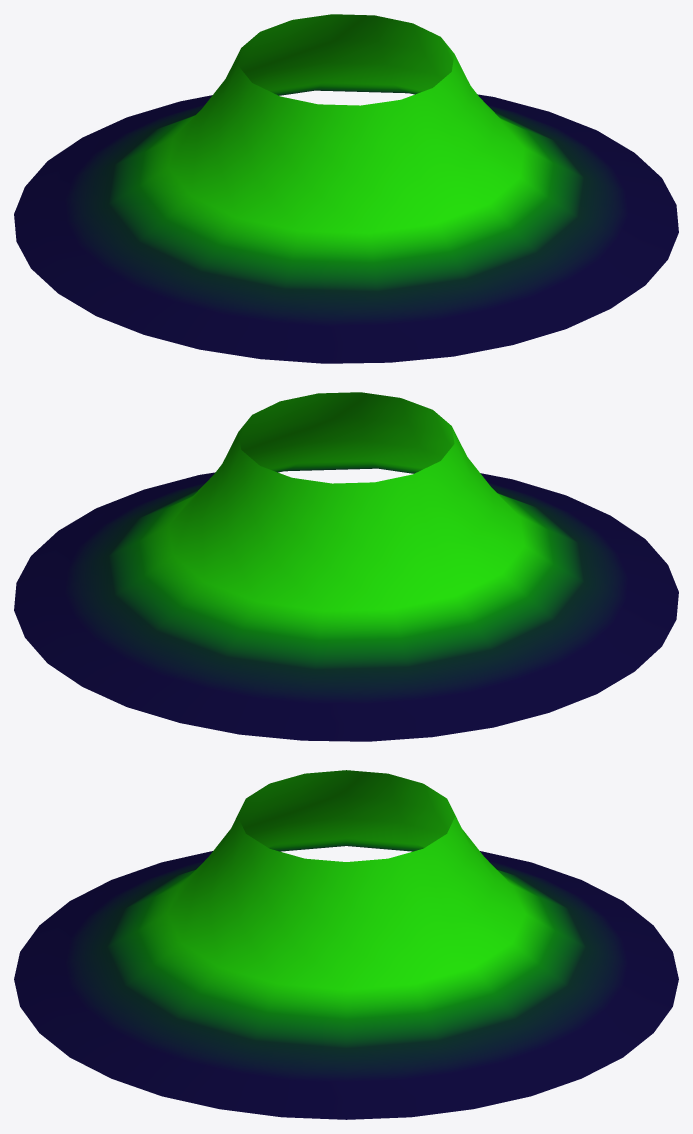
The model's file is SM_VFXTest_Cape_Acid.fbx.
The picture shows the model from 3 angles, top to bottom: view 1: azimuth 30°, elevation 25°; view 2: azimuth 150°, elevation 25°; view 3: azimuth 270°, elevation 25°; orthographic projection.
Visible parts, largest first — view 1: SM_VFXTest_Cape_Acid; view 2: SM_VFXTest_Cape_Acid; view 3: SM_VFXTest_Cape_Acid.
Boxes of the visible parts, left/top/right/bottom form: SM_VFXTest_Cape_Acid: left=14, top=14, right=678, bottom=363; SM_VFXTest_Cape_Acid: left=14, top=392, right=678, bottom=741; SM_VFXTest_Cape_Acid: left=14, top=770, right=678, bottom=1119.
Bounding box in the file's own units: 154 × 41.58 × 154.
